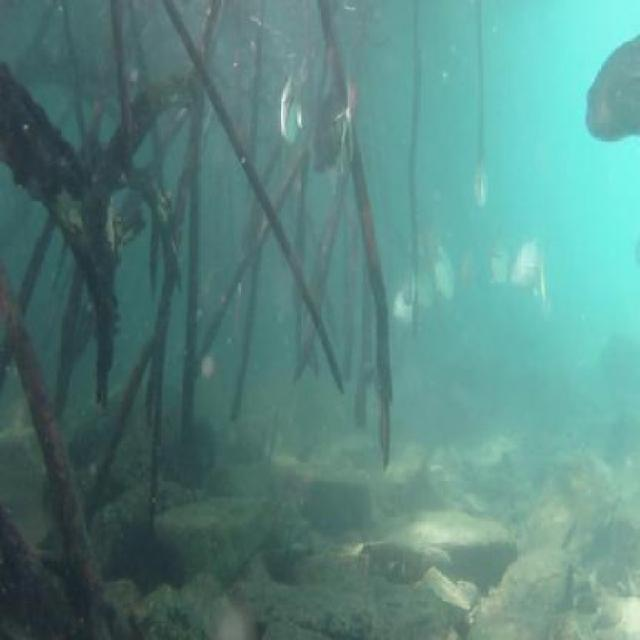Caranx_sexfasciatus_juvenile: (583, 36, 640, 146), (312, 79, 354, 181), (272, 66, 306, 151), (511, 236, 547, 302), (430, 239, 455, 301), (488, 225, 509, 292), (390, 288, 415, 335), (469, 164, 493, 211), (412, 263, 432, 314), (456, 248, 476, 290)
